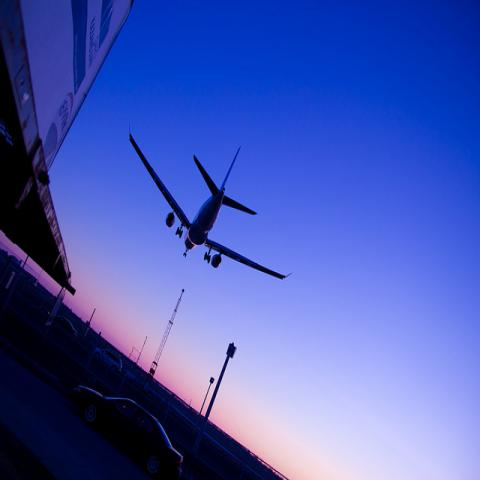car: (74, 385, 184, 477), (93, 349, 124, 372), (54, 315, 79, 340)
